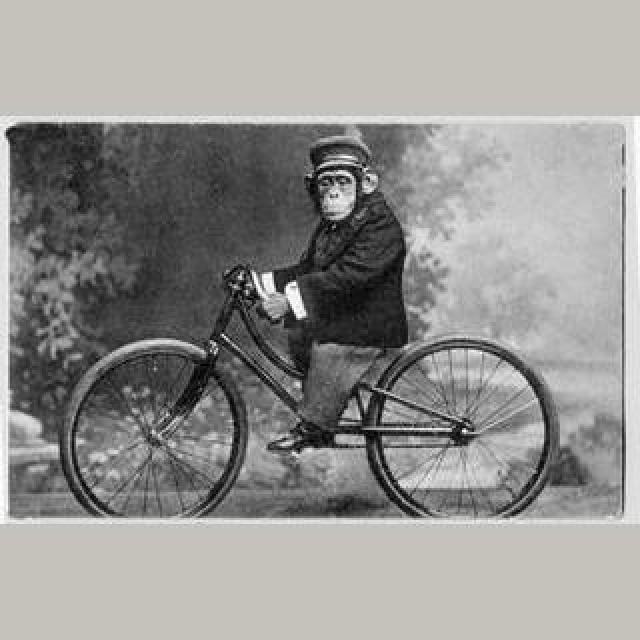Person: (66, 258, 550, 522)
